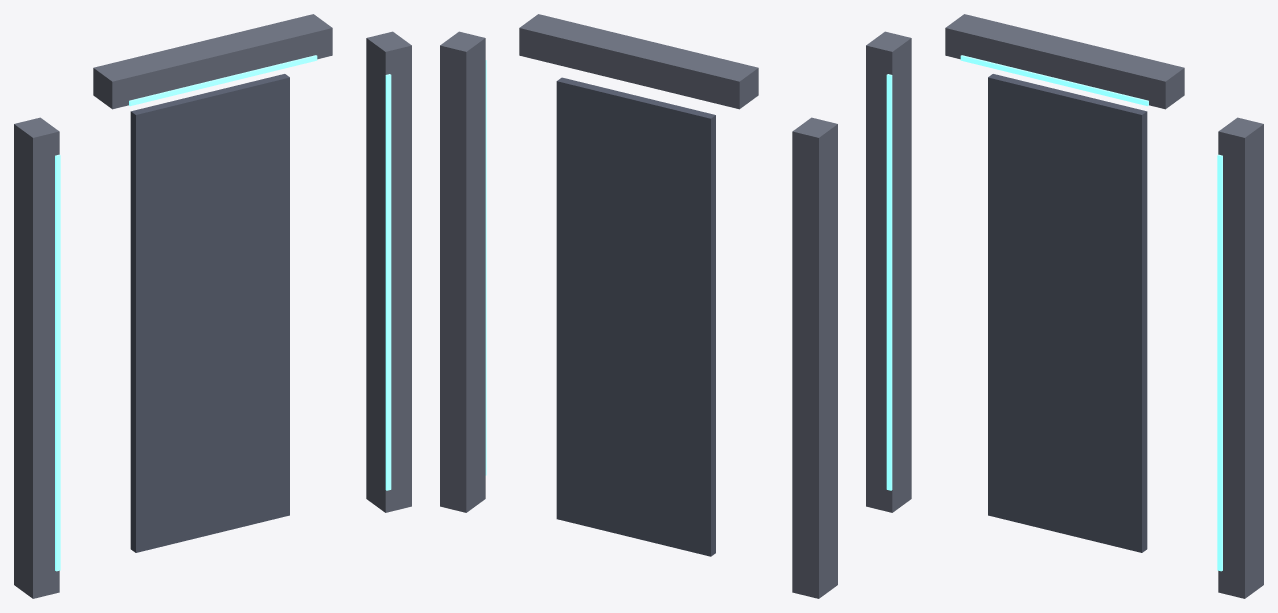
File: tech_door.glb
3 views of the same model, side by side, from view 1: azimuth 30°, elevation 25°; view 2: azimuth 150°, elevation 25°; view 3: azimuth 330°, elevation 25° (orthographic).
Visible parts, largest first — view 1: DoorPanel, FrameLeft, FrameRight, FrameTop, Accent_0.75, Accent_-0.75, AccentTop; view 2: DoorPanel, FrameLeft, FrameRight, FrameTop, Accent_0.75; view 3: DoorPanel, FrameRight, FrameLeft, FrameTop, Accent_-0.75, Accent_0.75, AccentTop.
Boxes of the visible parts, left/top/right/bottom form: DoorPanel: left=130, top=74, right=289, bottom=552; FrameLeft: left=14, top=117, right=59, bottom=598; FrameRight: left=366, top=31, right=411, bottom=512; FrameTop: left=93, top=14, right=332, bottom=109; Accent_0.75: left=385, top=74, right=391, bottom=490; Accent_-0.75: left=55, top=154, right=60, bottom=571; AccentTop: left=129, top=55, right=317, bottom=106; DoorPanel: left=556, top=77, right=715, bottom=556; FrameLeft: left=792, top=117, right=837, bottom=598; FrameRight: left=440, top=31, right=485, bottom=512; FrameTop: left=519, top=14, right=758, bottom=109; Accent_0.75: left=485, top=60, right=486, bottom=475; DoorPanel: left=988, top=74, right=1147, bottom=552; FrameRight: left=1218, top=117, right=1263, bottom=598; FrameLeft: left=866, top=31, right=911, bottom=512; FrameTop: left=945, top=14, right=1184, bottom=109; Accent_-0.75: left=886, top=74, right=892, bottom=490; Accent_0.75: left=1217, top=154, right=1222, bottom=571; AccentTop: left=960, top=55, right=1148, bottom=106.
Size of the model in its own units: 1.72 by 2.16 by 0.16.
